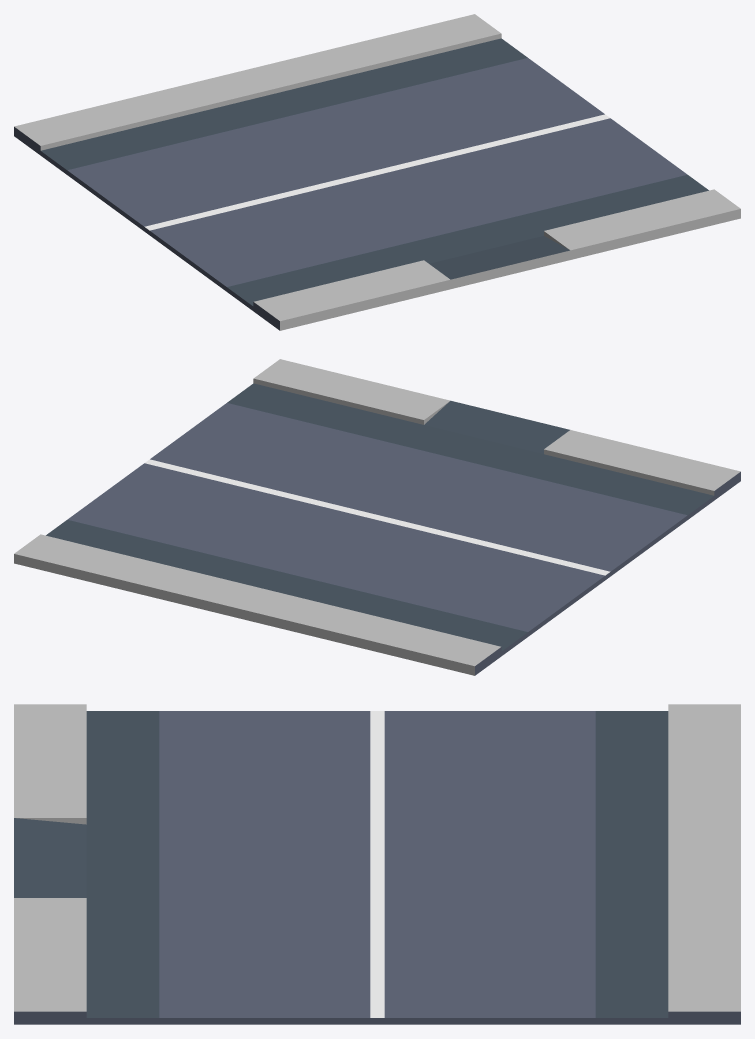
File: SM_Road_Driveway_Single.fbx
The picture shows the model from 3 angles, top to bottom: view 1: azimuth 30°, elevation 25°; view 2: azimuth 150°, elevation 25°; view 3: azimuth 270°, elevation 25°; orthographic projection. The views are drawn at different scales.
Parts seen in each view (by area): view 1: SM_Road_Driveway_Single; view 2: SM_Road_Driveway_Single; view 3: SM_Road_Driveway_Single.
Part boxes in pixels (left/top/right/bottom): SM_Road_Driveway_Single: left=14, top=14, right=740, bottom=330; SM_Road_Driveway_Single: left=14, top=359, right=740, bottom=675; SM_Road_Driveway_Single: left=14, top=704, right=740, bottom=1024.
Bounding box in the file's own units: 1000 × 20 × 1000.
